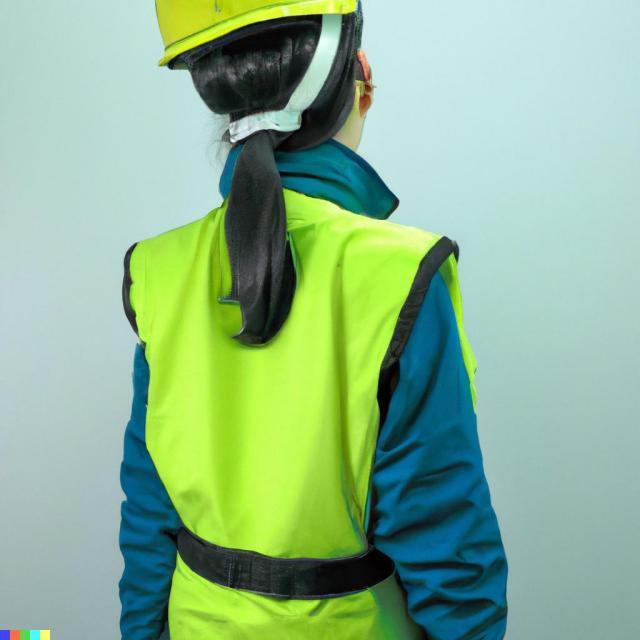reflective_jacket: (120, 176, 475, 636)
safety_helmet: (149, 0, 369, 69)
